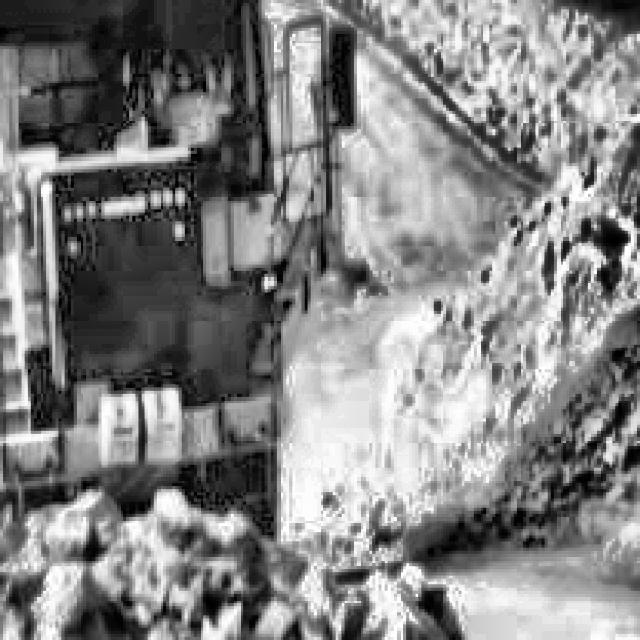dump_truck: (0, 0, 360, 575)
